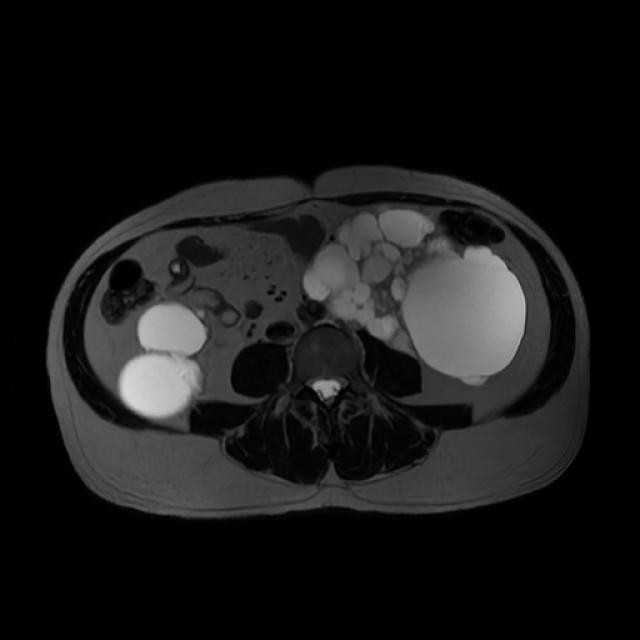sag: (115, 299, 208, 419)
sol: (302, 208, 527, 385)
